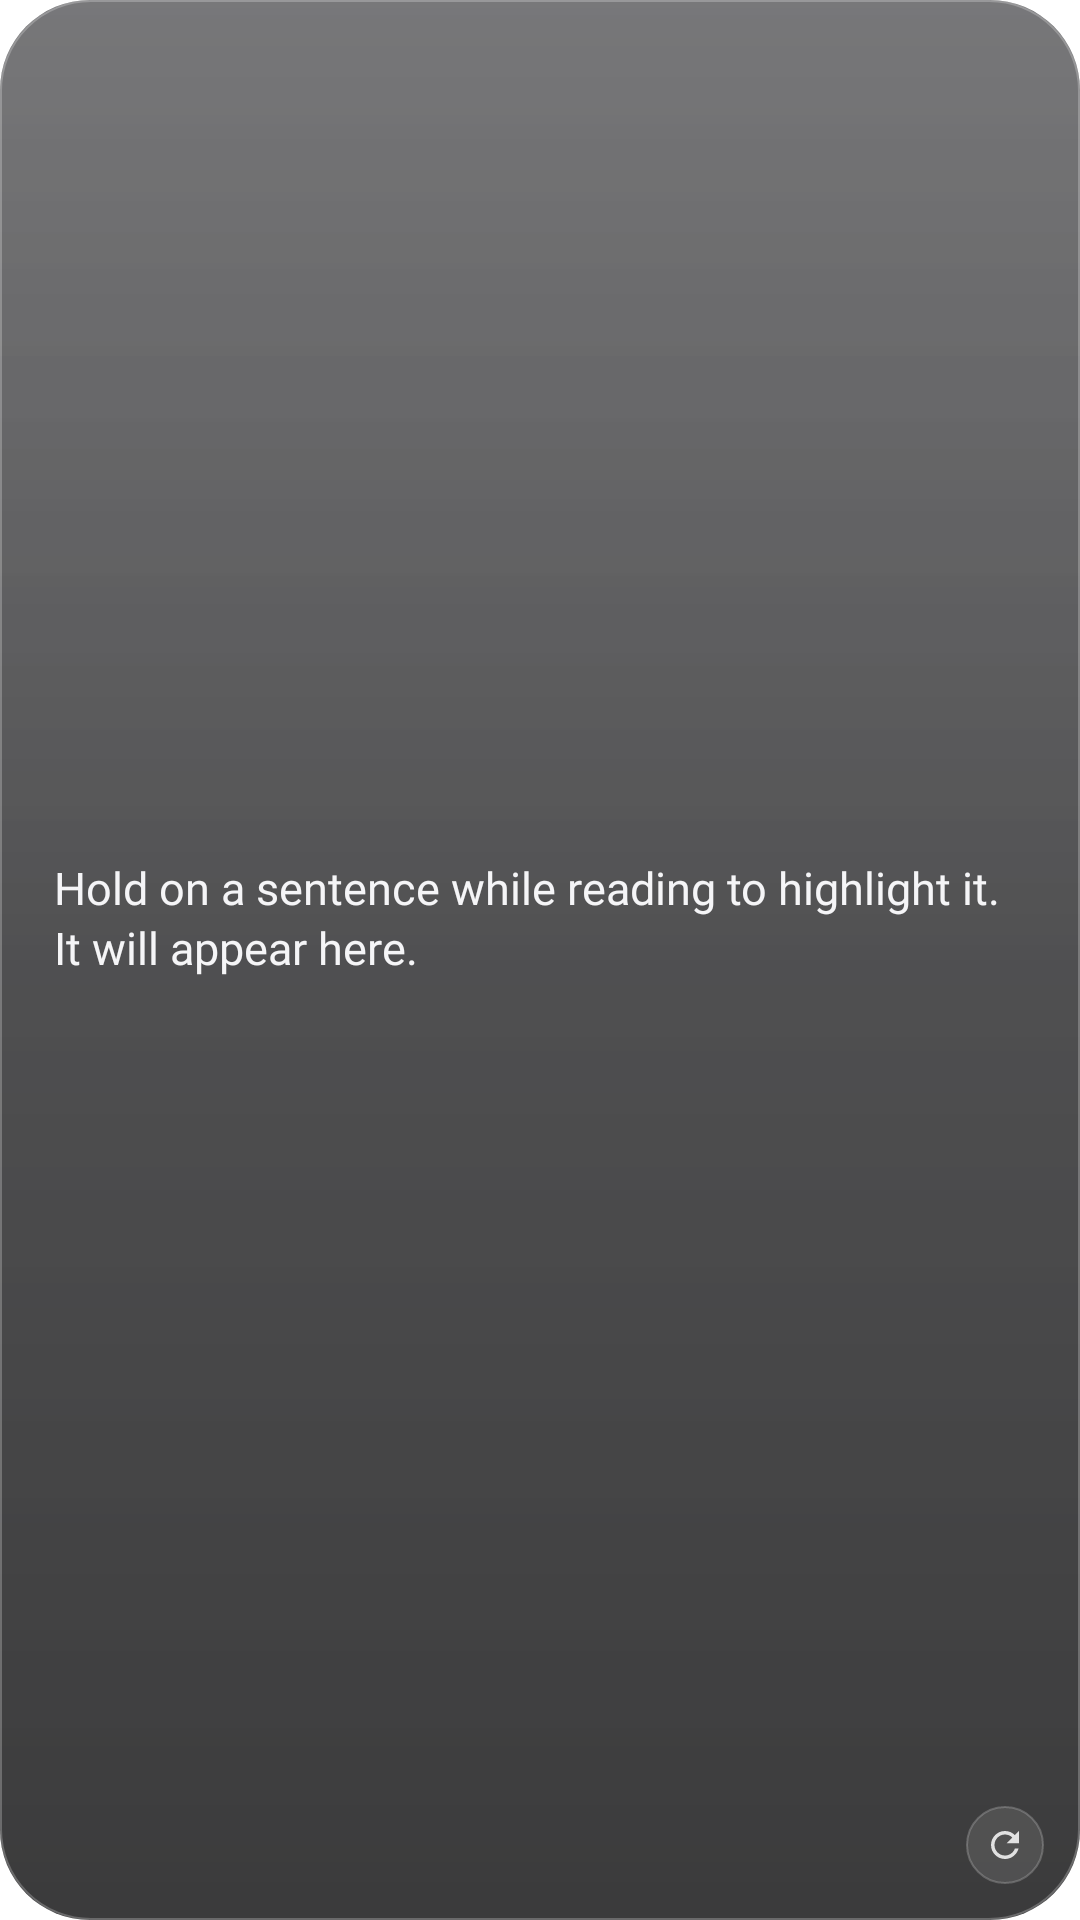

Named icons in this screenshot (1080 × 1920) and their bounding boxes, (x1, y1, x2, y2):
refresh: (966, 1806, 1044, 1884)
